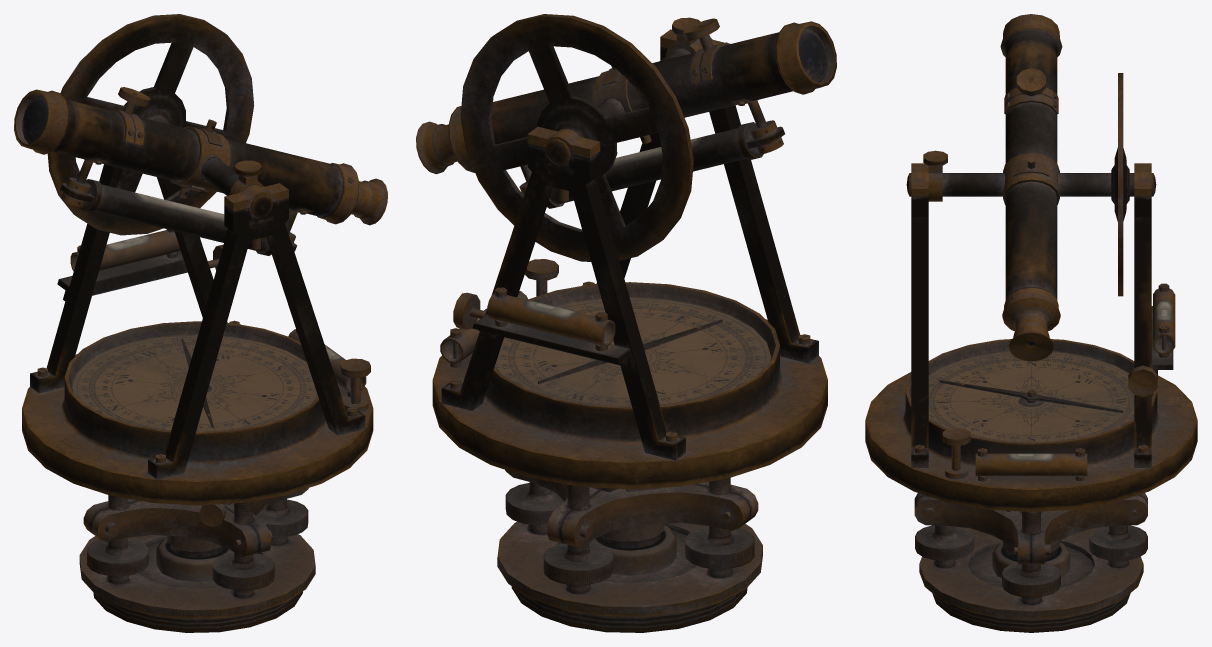
The model's file is theodolite.dae.
The picture shows the model from 3 angles, left to right: view 1: azimuth 30°, elevation 25°; view 2: azimuth 150°, elevation 25°; view 3: azimuth 270°, elevation 25°; orthographic projection. The views are drawn at different scales.
Parts seen in each view (by area): view 1: theodolite; view 2: theodolite; view 3: theodolite.
Boxes of the visible parts, x1,y1,x2,y2 form: theodolite: [14, 14, 387, 632]; theodolite: [416, 14, 836, 632]; theodolite: [865, 14, 1197, 632].
Bounding box in the file's own units: 0.4183 × 0.5942 × 0.3528.
